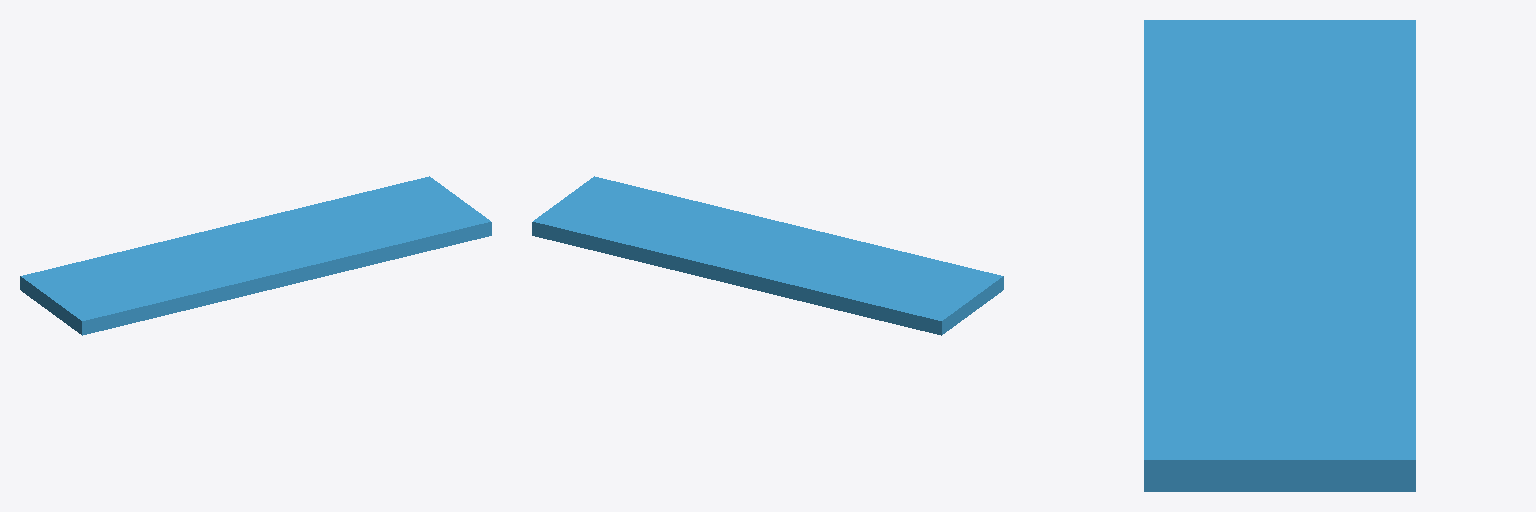
robot.urdf — cylinder_37:
    
    <robot name="cylinder_37">
        <link name="cylinder_37">    
            <fem>
                <origin rpy="0.0 0.0 0.0" xyz="0 0 0" />
                <density value="100" />
                <youngs value="1225"/>
                <poissons value="0.3" />
                <damping value="0.0" />
                <attachDistance value="0.01" />
                <tetmesh filename="[local-path]/sim_data/Custom/Custom_mesh/multi_cylinder_1kPa/cylinder_37.tet" />
                <scale value="0.5"/>
            </fem>
        </link>

        <link name="fix_frame">
            <visual>
                <origin xyz="0.0 0.0 10.091497867501008"/>
                <geometry>
                    <box size="0.15 0.03924639374765914 0.005"/>
                </geometry>
            </visual>
            <collision>
                <origin xyz="0.0 0.0 0.09149786750100895"/>
                <geometry>
                    <box size="0.15 0.03924639374765914 0.005"/>
                </geometry>
            </collision>
            <inertial>
                <mass value="500000"/>
                <inertia ixx="0.05" ixy="0.0" ixz="0.0" iyy="0.05" iyz="0.0" izz="0.05"/>
            </inertial>
        </link>
        
        <joint name = "attach" type = "fixed">
            <origin xyz = "0.0 0.0 0.0" rpy = "0 0 0"/>
            <parent link ="cylinder_37"/>
            <child link = "fix_frame"/>
        </joint>  




    </robot>
    

--- Facts derived from the render (not from the file) ---
Views: 3 orthographic renders of the robot side by side, from view 1: azimuth 30°, elevation 25°; view 2: azimuth 150°, elevation 25°; view 3: azimuth 270°, elevation 25°.
Model cylinder_37 with 2 links and 1 joints (1 fixed), rooted at cylinder_37, posed all joints at 0.
Visible links, largest first — view 1: fix_frame; view 2: fix_frame; view 3: fix_frame.
Boxes of the visible links, <box> form: fix_frame: <box>20,176,491,335</box>; fix_frame: <box>532,176,1003,335</box>; fix_frame: <box>1144,20,1415,491</box>.
Size in the robot's own frame: 0.15 by 0.0392 by 0.005 metres.
Geometry: primitives only (box / cylinder / sphere), no mesh files.
